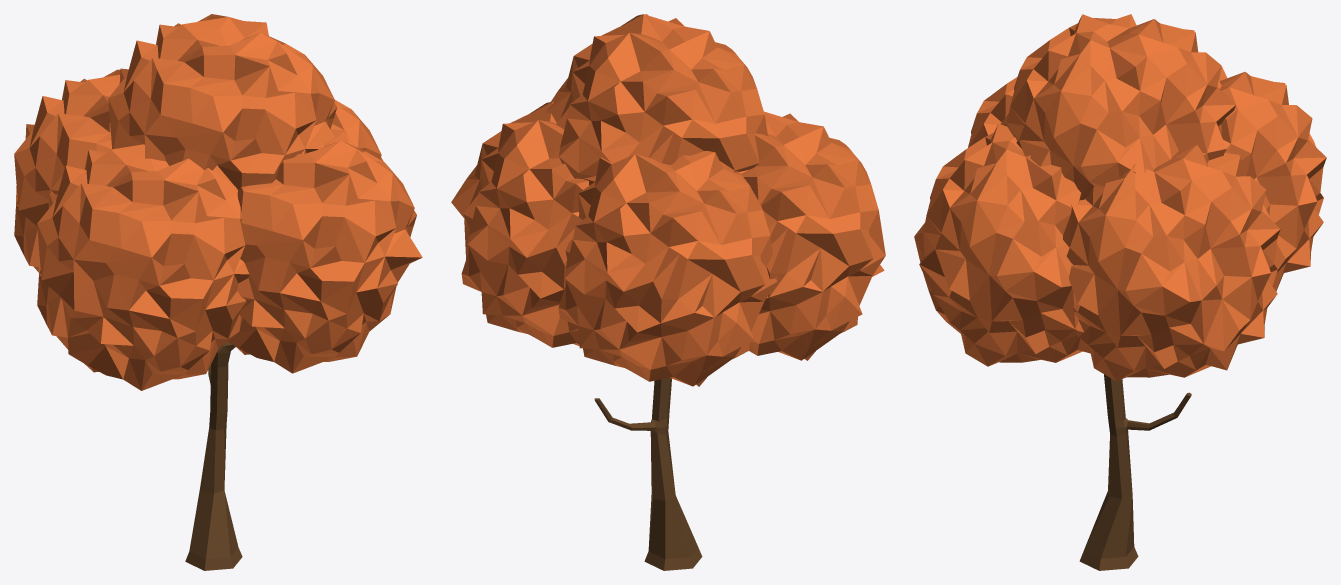
File: Tree4.fbx
3 views of the same model, side by side, from view 1: azimuth 30°, elevation 25°; view 2: azimuth 150°, elevation 25°; view 3: azimuth 270°, elevation 25° (orthographic). The views are drawn at different scales.
Visible parts, largest first — view 1: LowPoly Tree .034; view 2: LowPoly Tree .034; view 3: LowPoly Tree .034.
Boxes of the visible parts, left/top/right/bottom form: LowPoly Tree .034: left=14, top=14, right=422, bottom=570; LowPoly Tree .034: left=451, top=14, right=885, bottom=570; LowPoly Tree .034: left=914, top=14, right=1326, bottom=570.
Bounding box in the file's own units: 114 × 156 × 108.
